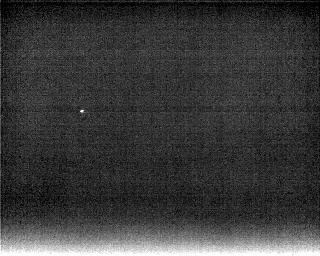BIRD: (77, 106, 87, 117)
